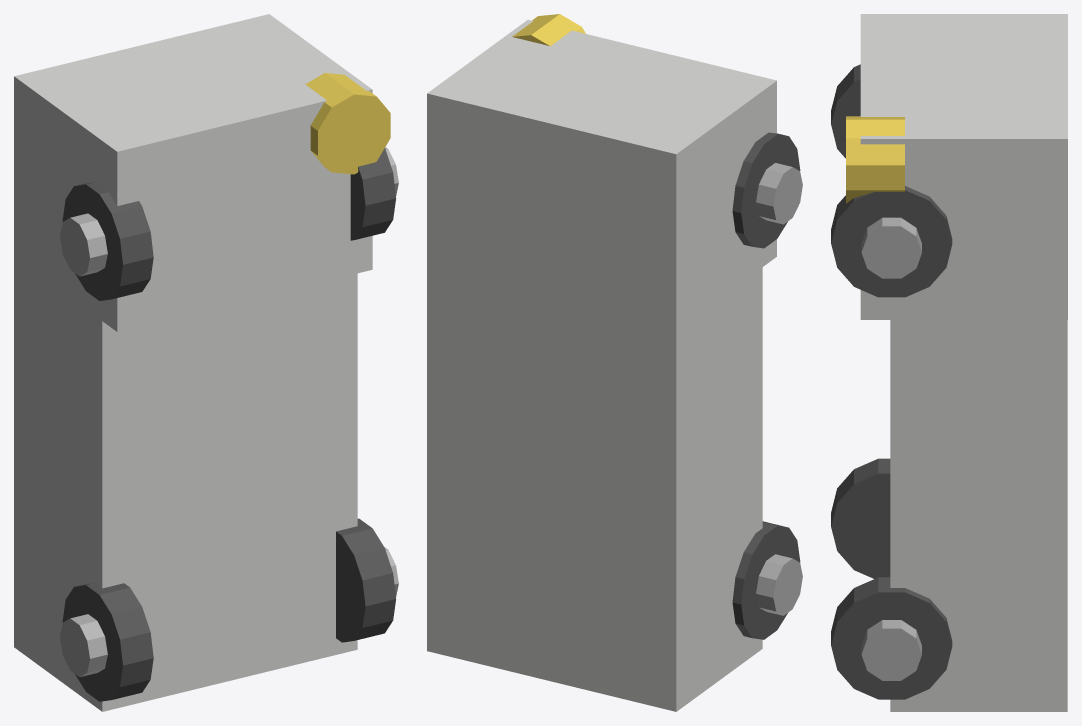
The model's file is street_sweeper.glb.
3 views of the same model, side by side, from view 1: azimuth 30°, elevation 25°; view 2: azimuth 150°, elevation 25°; view 3: azimuth 270°, elevation 25° (orthographic). The views are drawn at different scales.
Parts seen in each view (by area): view 1: cargo, cab, wheel_-1_-1, brush, wheel_-1_1, wheel_1_-1, wheel_1_1, hub_-1_1, hub_-1_-1; view 2: cargo, cab, wheel_-1_-1, wheel_-1_1, hub_-1_1, hub_-1_-1, brush; view 3: cargo, cab, wheel_1_-1, wheel_1_1, wheel_-1_-1, brush, hub_1_1, hub_1_-1, wheel_-1_1.
Part boxes in pixels (box(x1,y1,x2,y2)): cargo: box(14, 247, 357, 711); cab: box(14, 14, 372, 331); wheel_-1_-1: box(62, 583, 153, 701); brush: box(305, 73, 390, 174); wheel_-1_1: box(62, 182, 153, 300); wheel_1_-1: box(336, 518, 395, 642); wheel_1_1: box(350, 148, 396, 240); hub_-1_1: box(60, 213, 107, 276); hub_-1_-1: box(60, 614, 107, 677); cargo: box(427, 246, 762, 711); cab: box(427, 20, 776, 330); wheel_-1_-1: box(732, 521, 800, 639); wheel_-1_1: box(732, 132, 800, 248); hub_-1_1: box(756, 163, 802, 224); hub_-1_-1: box(756, 554, 802, 615); brush: box(512, 14, 585, 46); cargo: box(890, 289, 1067, 711); cab: box(860, 14, 1067, 319); wheel_1_-1: box(831, 577, 952, 699); wheel_1_1: box(831, 186, 952, 297); wheel_-1_-1: box(831, 458, 890, 578); brush: box(846, 116, 904, 203); hub_1_1: box(861, 217, 921, 278); hub_1_-1: box(861, 620, 921, 680); wheel_-1_1: box(831, 64, 860, 158).
Size of the model in its own units: 2.42 by 4.32 by 1.6.
